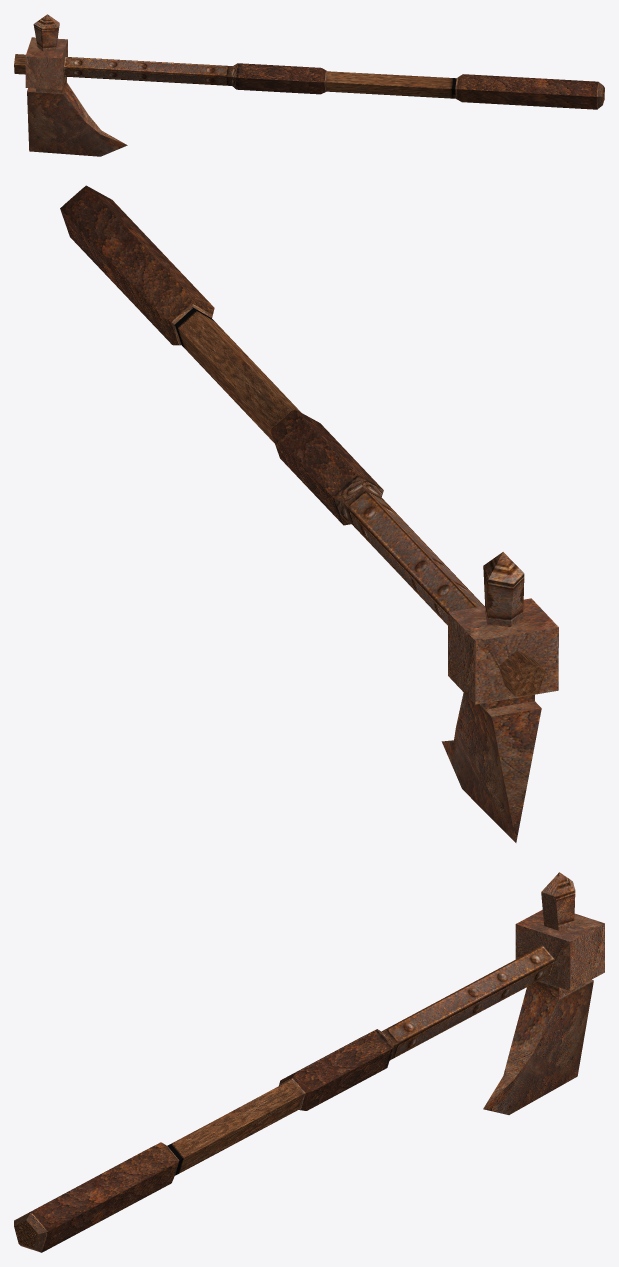
File: mm9_deco_axerustyp128r90.glb
The picture shows the model from 3 angles, top to bottom: view 1: azimuth 30°, elevation 25°; view 2: azimuth 150°, elevation 25°; view 3: azimuth 270°, elevation 25°; orthographic projection. The views are drawn at different scales.
Parts seen in each view (by area): view 1: Axerustyp128r90; view 2: Axerustyp128r90; view 3: Axerustyp128r90.
Boxes of the visible parts, x1=… form: Axerustyp128r90: x1=14, y1=14, x2=604, y2=156; Axerustyp128r90: x1=60, y1=185, x2=558, y2=842; Axerustyp128r90: x1=14, y1=872, x2=604, y2=1252.
Bounding box in the file's own units: 1.16 × 0.3729 × 0.9274.
Materials: 1 (1 with a texture image).
